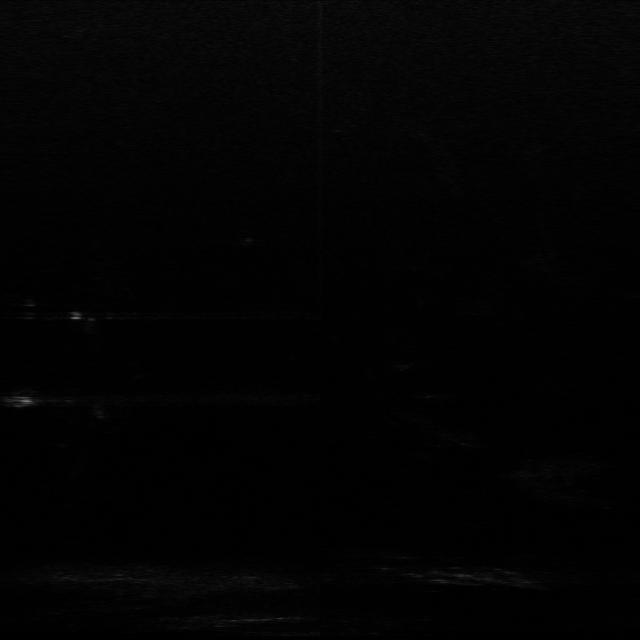rov: (7, 394, 43, 412)
